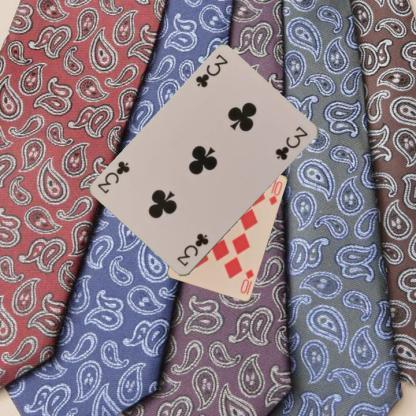10d: (237, 266, 255, 295)
3c: (193, 52, 229, 90), (174, 231, 210, 268)
